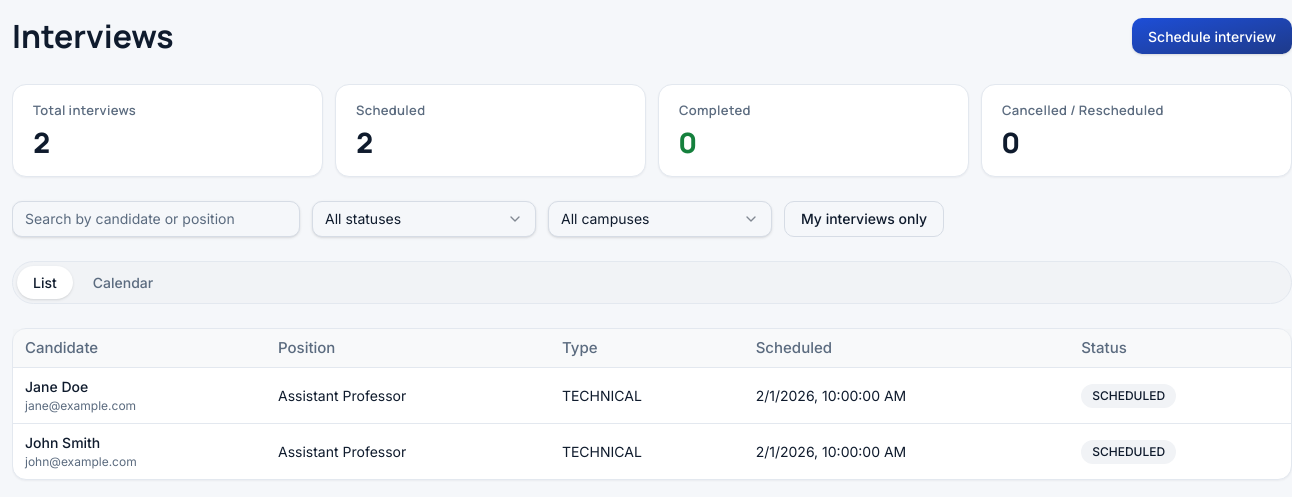
InterviewsListPage › narrows the list client-side by a candidate-or-position search
Expected: the link "Jane Doe" is shown, [25, 378, 88, 395]
Expected: the link "John Smith" is shown, [25, 434, 100, 451]
Type "john" into the field with placeholder "Search by candidate or position". click: [156, 218]
box: [12, 200, 300, 236]
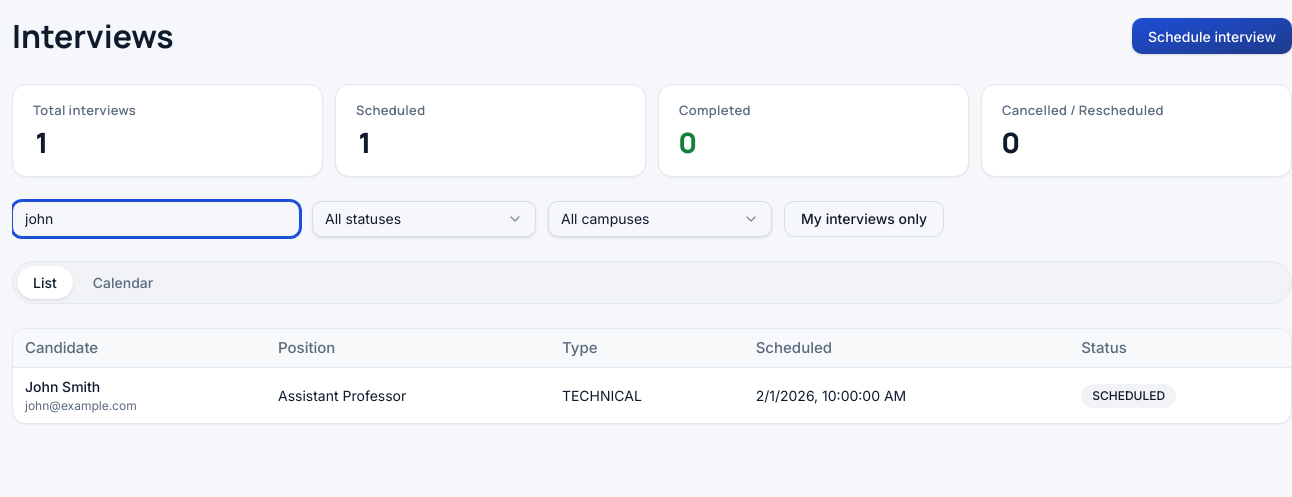
Expected: the link "John Smith" is shown, [25, 378, 100, 395]
Expected: the link "Jane Doe" is gone
